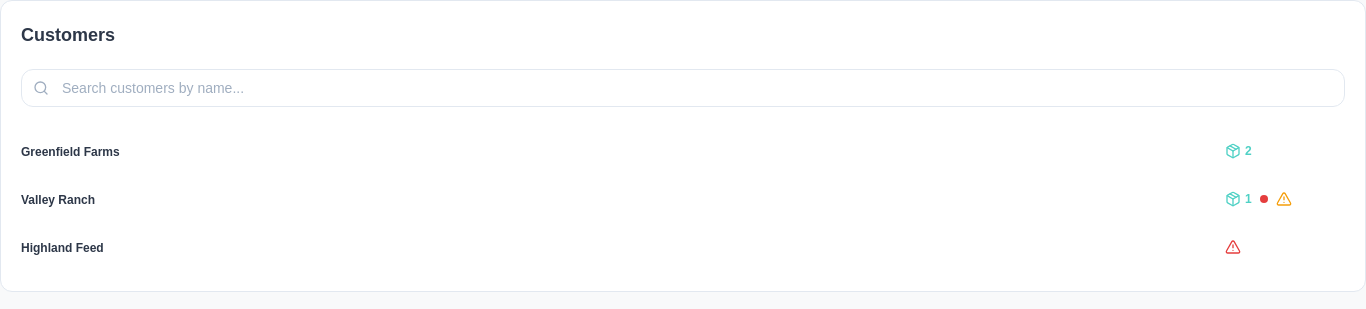
CustomersList › filters customers by name (case-insensitive substring) after debounced search input
Check: the text "Greenfield Farms" is shown, box [21,145,120,159]
Check: the text "Valley Ranch" is shown, box [21,193,95,207]
// Type 'green' (lower-case) — should match 'Greenfield Farms' (case-insensitive).
Type "green" into the field with placeholder "Search customers by name...". click: (683, 88)
box: [21,69,1345,107]
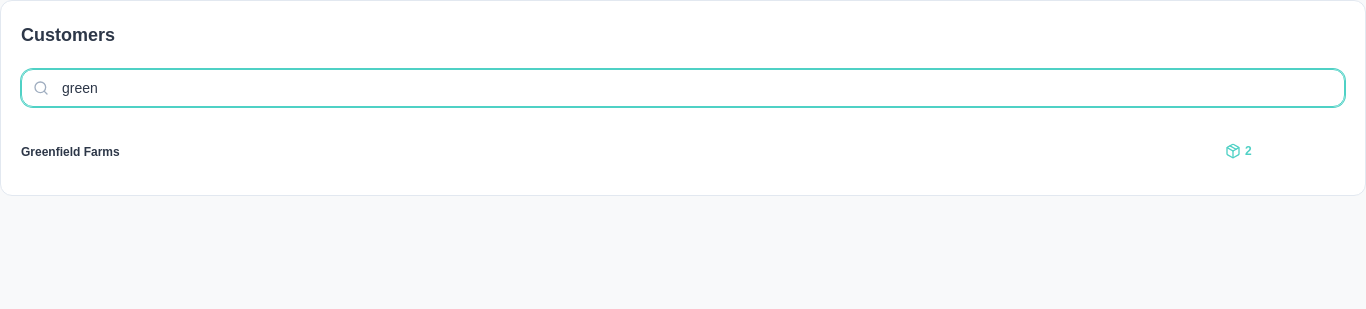
Check: the text "Greenfield Farms" is shown, box [21,145,120,159]
Check: the button "Valley Ranch" is gone
Check: the button "Highland Feed" is gone
